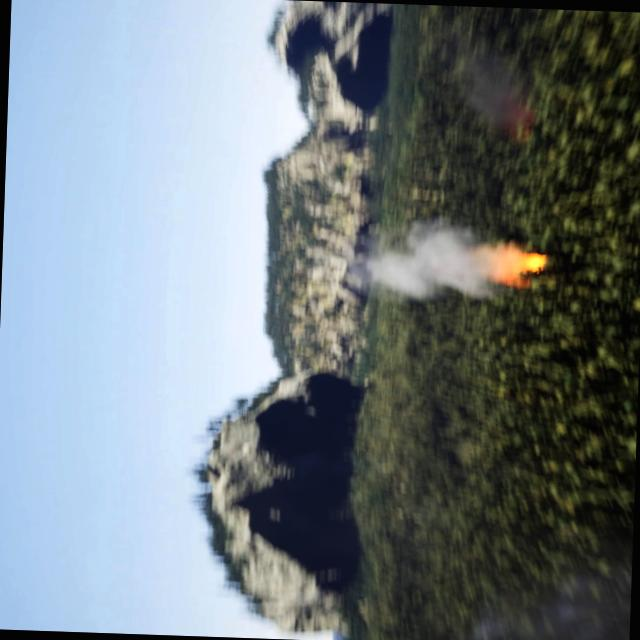fire: (485, 239, 544, 287)
smoke: (359, 216, 509, 301), (467, 576, 630, 640), (462, 55, 542, 141)
